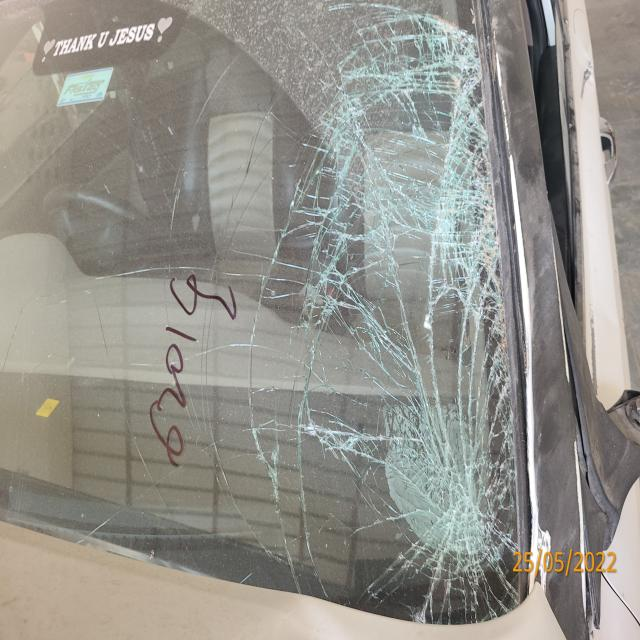damage: (161, 0, 535, 607), (611, 374, 639, 476)
